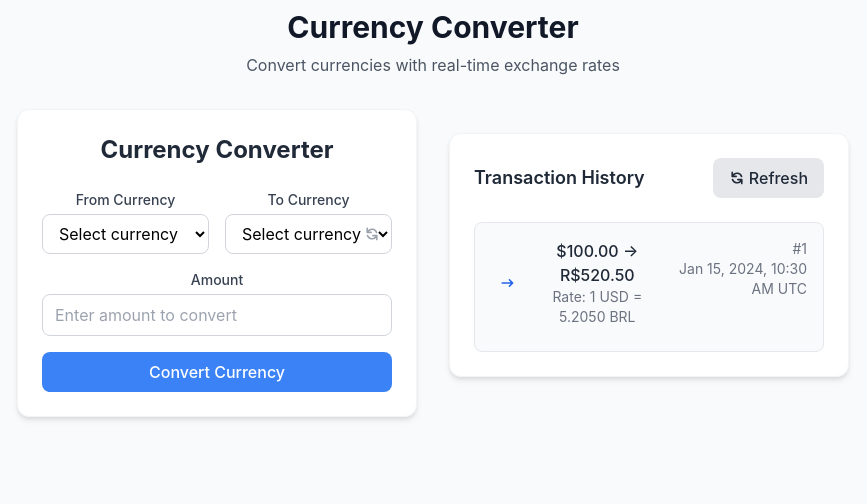
Currency Converter App › should handle API errors gracefully
Note: Fill and submit form
Select "USD - US Dollar" in the dropdown with id "from-currency" at (126, 234), box [42,214,209,254]
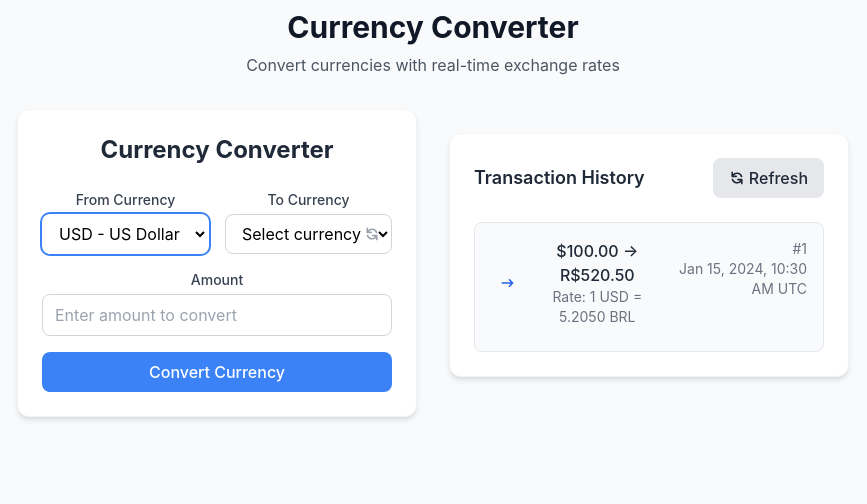
Select "BRL - Brazilian Real" in the dropdown with id "to-currency" at (309, 234), box [225,214,392,254]
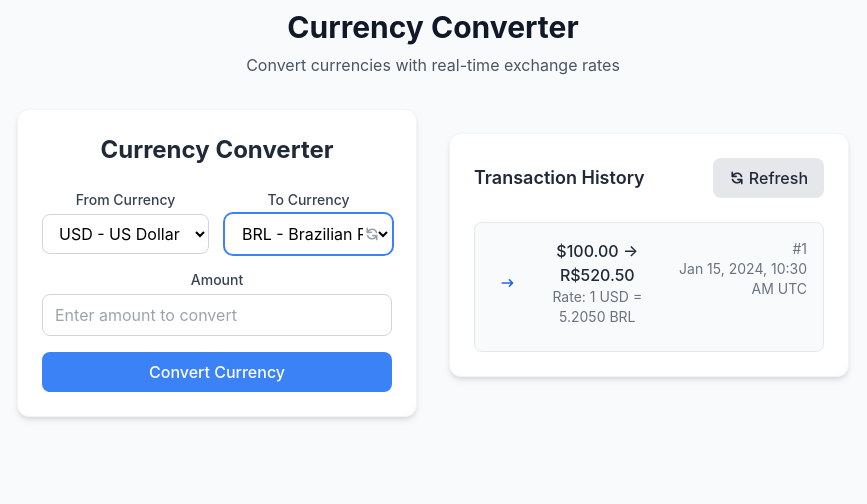
Type "100" into the number field with id "amount" at (217, 315), box [42,294,392,336]
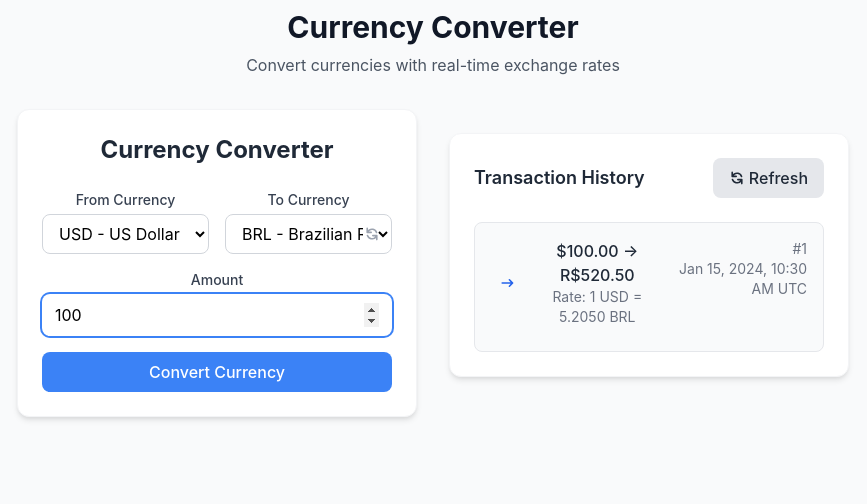
Click the submit button at (217, 372), box [42,352,392,392]
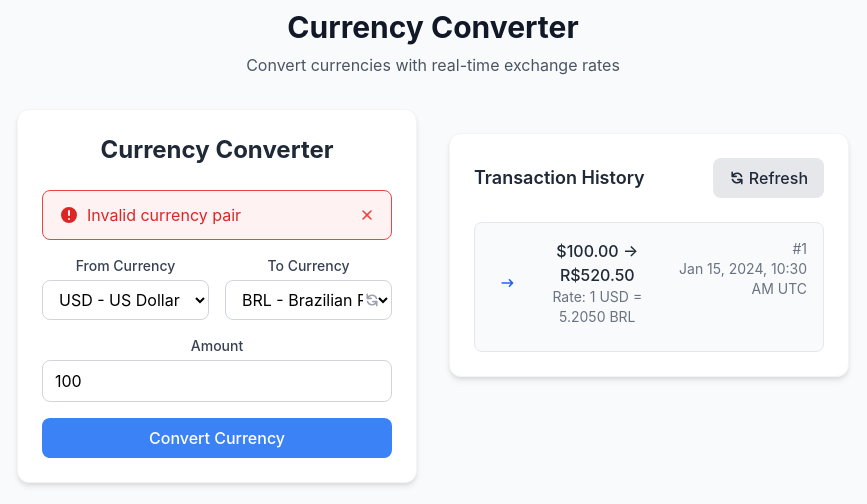
Now the button named "Close error" is shown, box [359,207,375,223]
